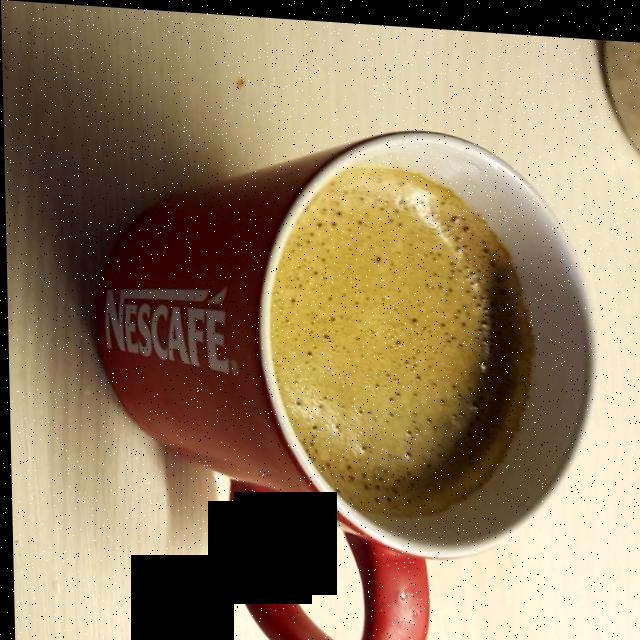coffee-with-caffeine: (273, 166, 511, 510)
